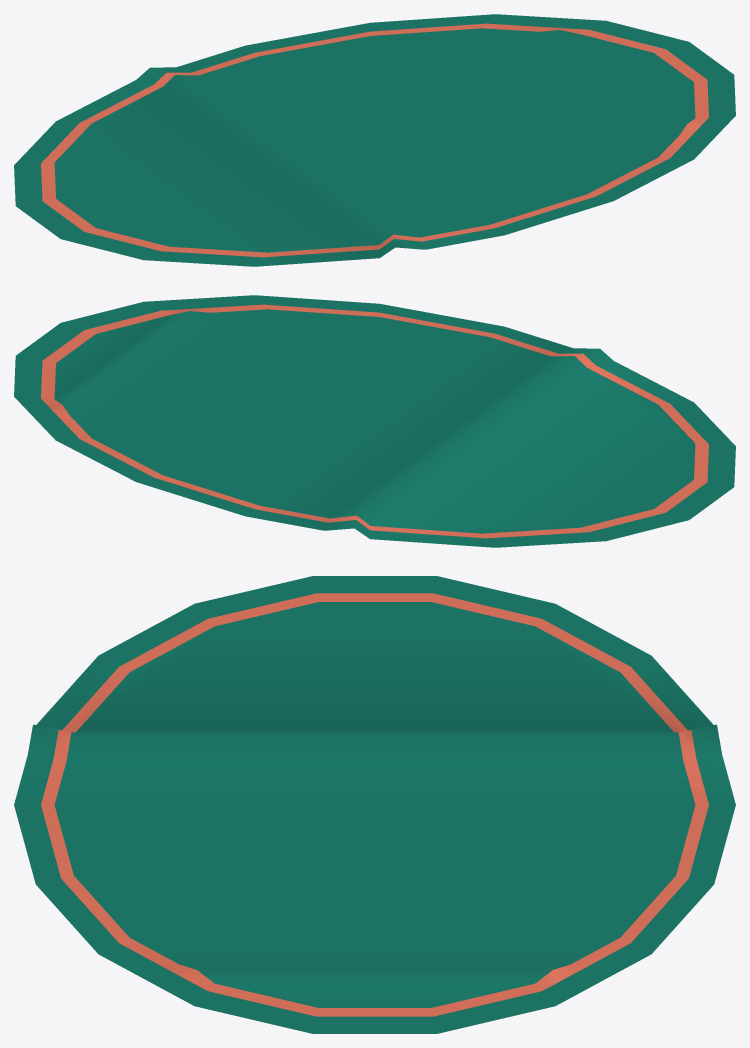
File: rug_b.glb
3 views of the same model, one above another, from view 1: azimuth 30°, elevation 25°; view 2: azimuth 150°, elevation 25°; view 3: azimuth 270°, elevation 25° (orthographic). The views are drawn at different scales.
Visible parts, largest first — view 1: Carpet_Round; view 2: Carpet_Round; view 3: Carpet_Round.
Boxes of the visible parts, box(x1,y1,x2,y2) form: Carpet_Round: box(14, 14, 735, 266); Carpet_Round: box(14, 295, 735, 547); Carpet_Round: box(14, 576, 735, 1033).
Bounding box in the file's own units: 1.8 × 0.02 × 1.2.
